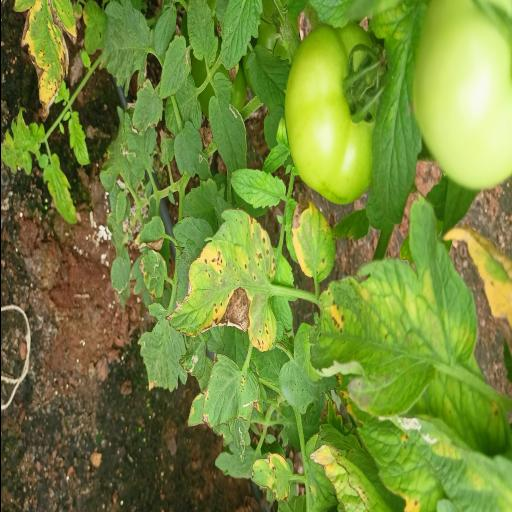disease_tomato: (164, 204, 277, 354), (288, 182, 338, 282)
